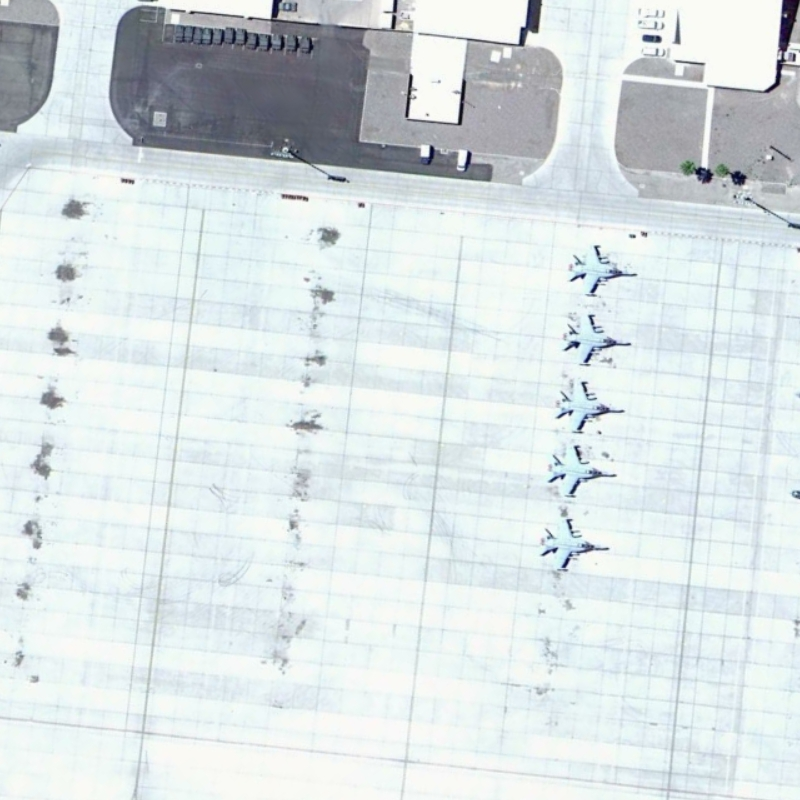A16: (535, 507, 615, 583), (547, 372, 630, 441), (541, 439, 622, 504), (558, 307, 637, 368), (562, 237, 637, 301)
